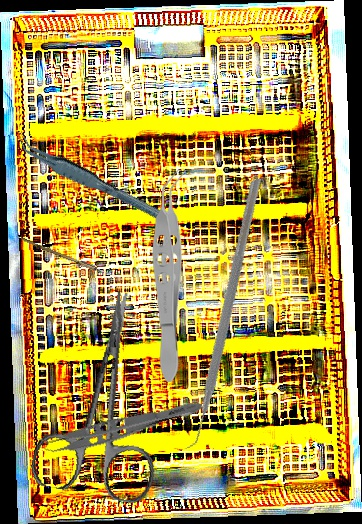Chopper: (98, 177, 336, 454)
Iris Scissors: (28, 281, 187, 507)
Surgical Spoon: (19, 237, 126, 282)
Tissue Forceps: (12, 119, 173, 241), (35, 386, 205, 463), (152, 169, 187, 382)
